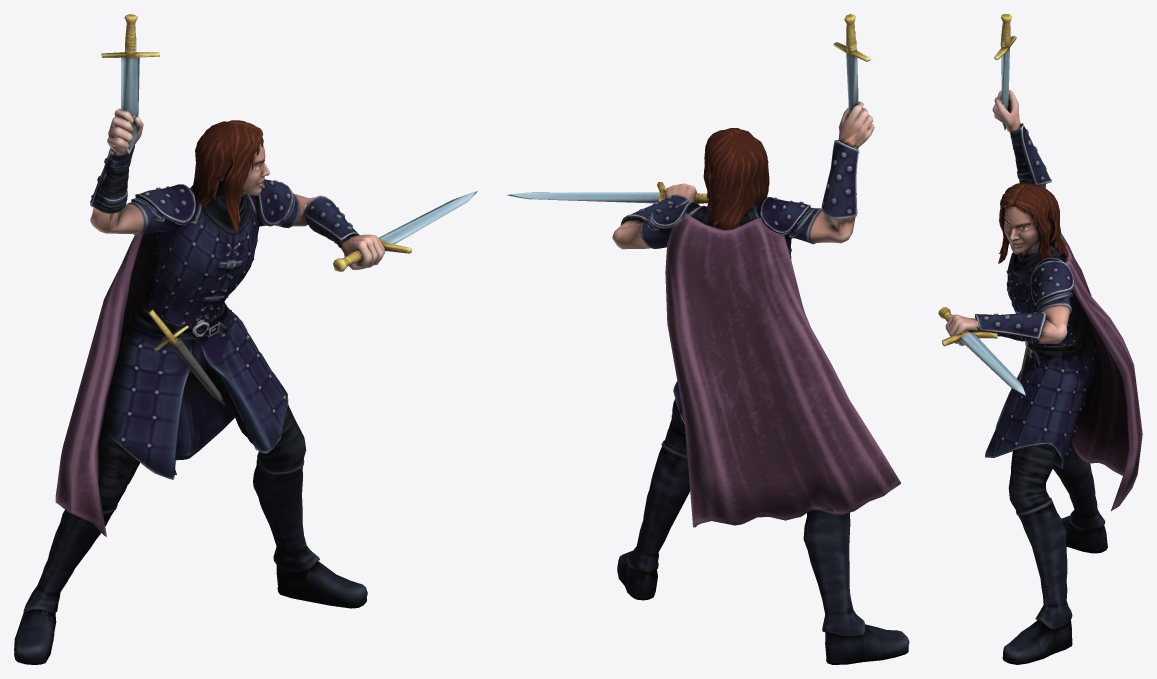
The model's file is MZ4250 - Human Rogue.glb.
3 views of the same model, side by side, from view 1: azimuth 30°, elevation 25°; view 2: azimuth 150°, elevation 25°; view 3: azimuth 270°, elevation 25° (orthographic). The views are drawn at different scales.
Parts seen in each view (by area): view 1: body_low.002; view 2: body_low.002; view 3: body_low.002.
Part boxes in pixels (x1,y1,x2,y2): body_low.002: (14, 14, 477, 664); body_low.002: (507, 14, 909, 664); body_low.002: (938, 14, 1142, 664).
Bounding box in the file's own units: 0.9837 × 1.36 × 0.4578.
1 material, 1 textured.
